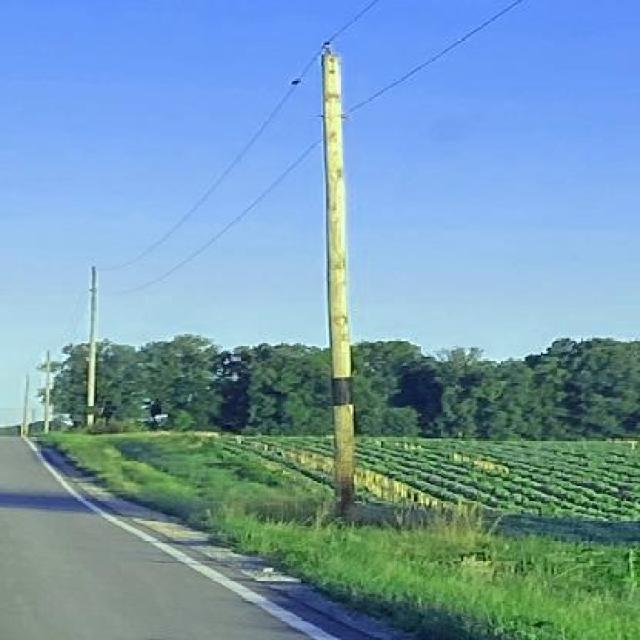light_pole: (300, 38, 376, 520), (76, 251, 110, 438)
